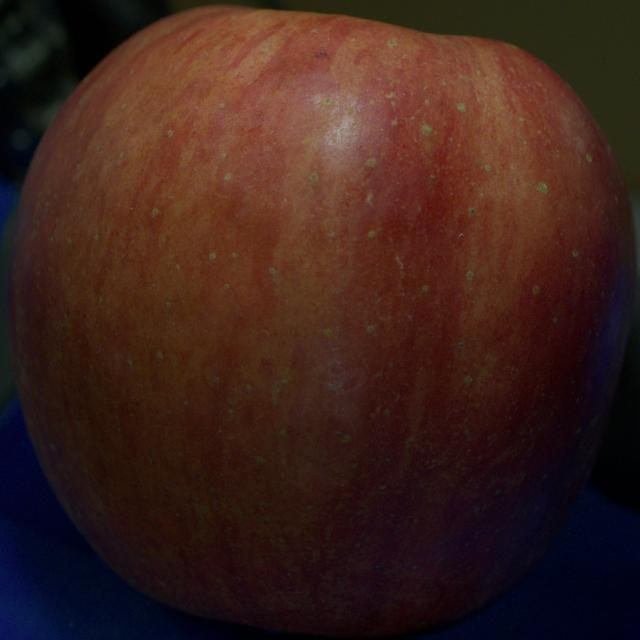apple: (9, 7, 636, 636)
